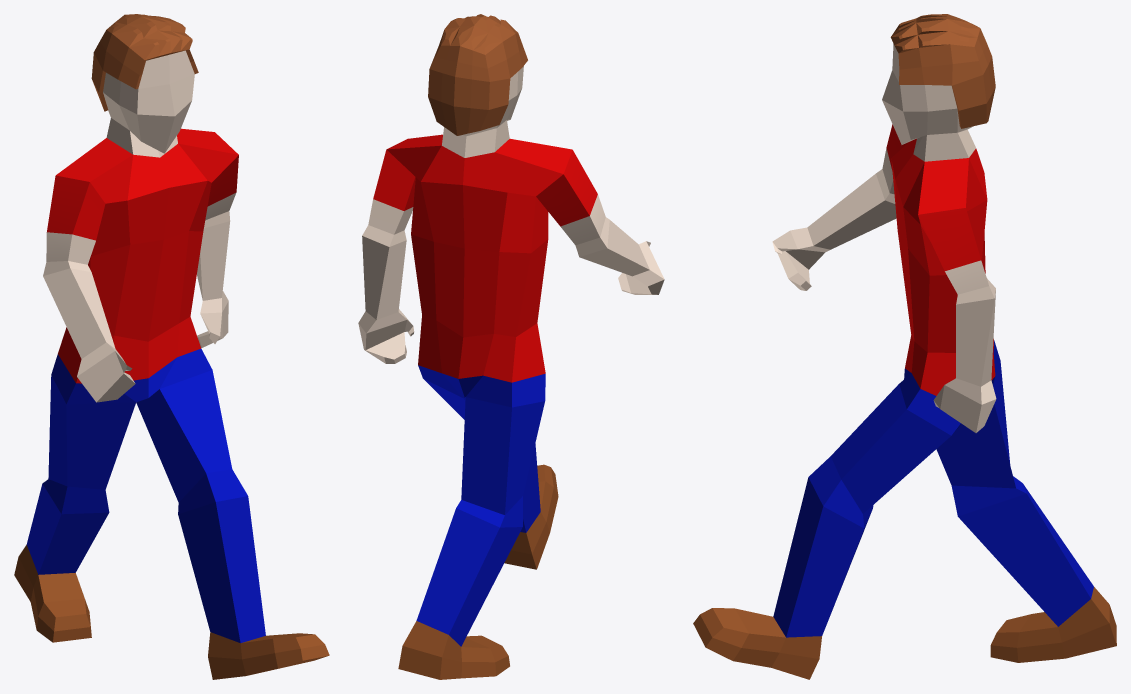
Rendered from Human_walking_7.fbx.
3 renders of one model, left to right at view 1: azimuth 30°, elevation 25°; view 2: azimuth 150°, elevation 25°; view 3: azimuth 270°, elevation 25°, orthographic. The views are drawn at different scales.
Visible parts, largest first — view 1: Person; view 2: Person; view 3: Person.
Boxes of the visible parts, bbox=[...] form: Person: bbox=[14, 14, 329, 679]; Person: bbox=[358, 14, 664, 679]; Person: bbox=[693, 14, 1116, 679].
Size of the model in its own units: 0.1208 by 0.3106 by 0.1823.
